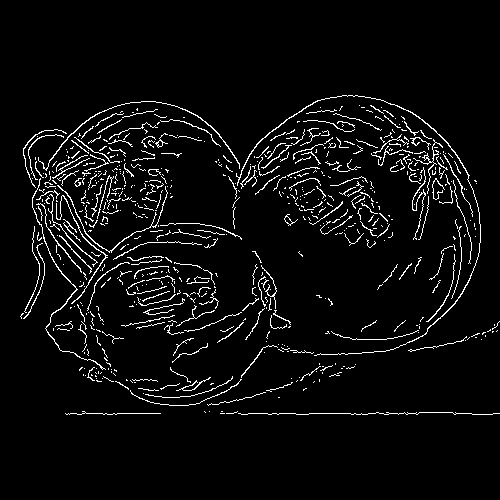red_onion: (231, 91, 469, 350), (9, 99, 237, 320), (41, 221, 280, 400)
